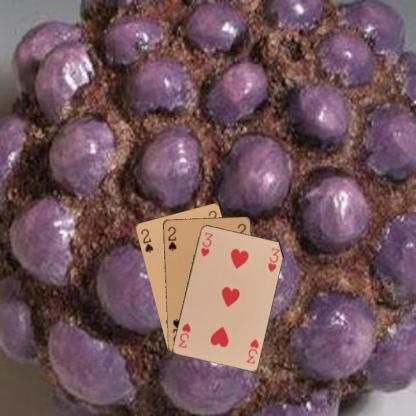2s: (138, 226, 154, 254), (166, 224, 178, 252)
3h: (198, 229, 214, 258), (244, 336, 260, 365)
